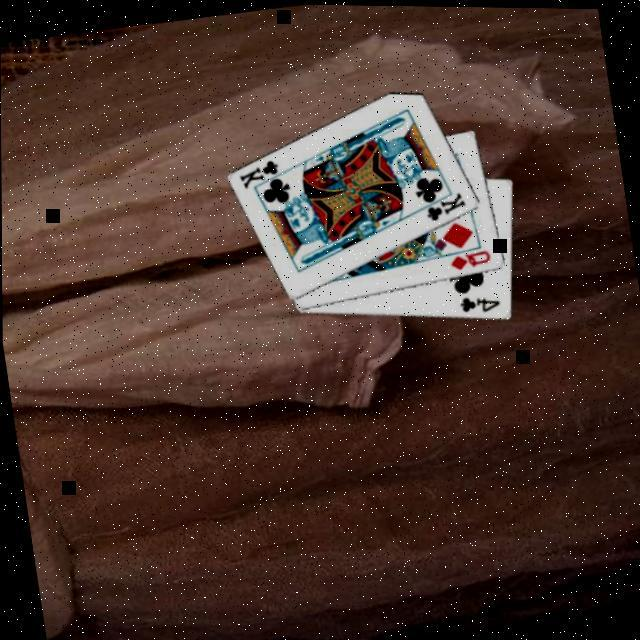4C: (453, 286, 502, 316)
KC: (412, 182, 468, 224), (234, 152, 290, 192)
QD: (444, 243, 494, 272)
